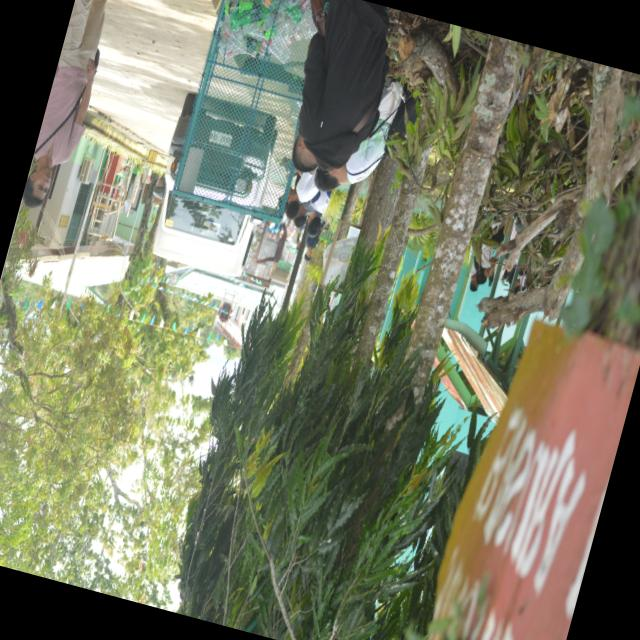person: (22, 0, 106, 207), (292, 0, 389, 171), (315, 80, 403, 190), (286, 171, 317, 219), (308, 191, 331, 236), (305, 220, 324, 260), (294, 200, 313, 227)
